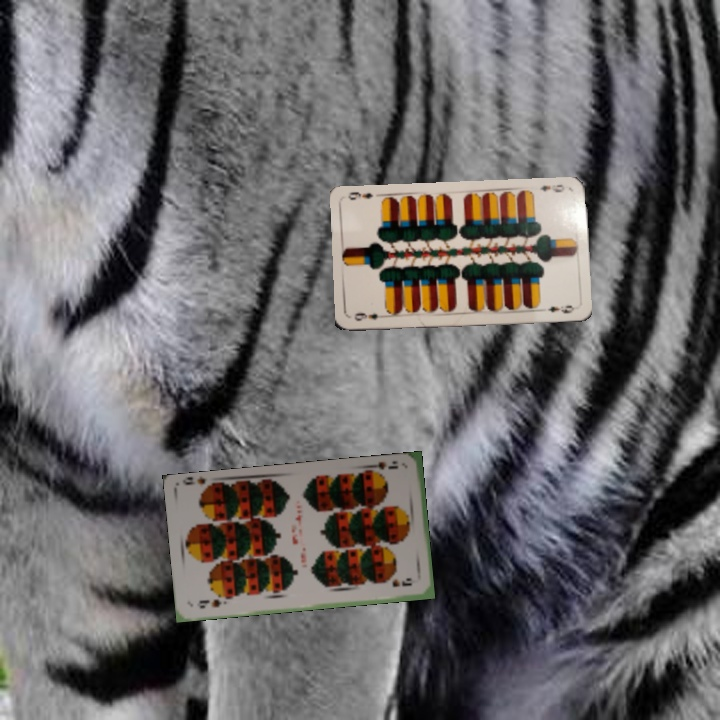E9: (350, 309, 389, 323), (537, 180, 567, 195)
S9: (366, 457, 401, 478), (195, 595, 224, 611)
